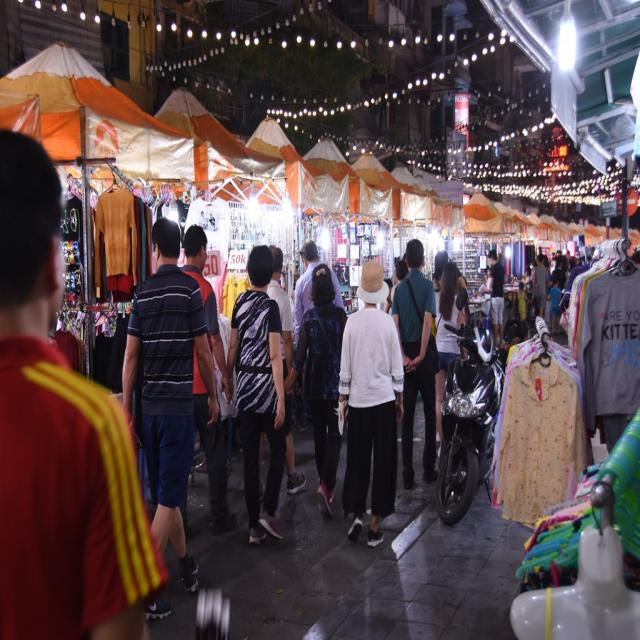body: (0, 123, 157, 640), (117, 213, 222, 609), (222, 234, 290, 551), (336, 253, 408, 552), (178, 222, 234, 533), (288, 259, 354, 518), (255, 243, 308, 497), (390, 237, 441, 491), (434, 260, 466, 457), (293, 238, 347, 350), (478, 245, 506, 352), (532, 252, 550, 321), (388, 246, 407, 308), (550, 244, 592, 272), (546, 274, 563, 338), (516, 281, 533, 343), (449, 253, 467, 300), (432, 250, 449, 294), (521, 258, 536, 285), (481, 257, 491, 285), (542, 244, 550, 274)
